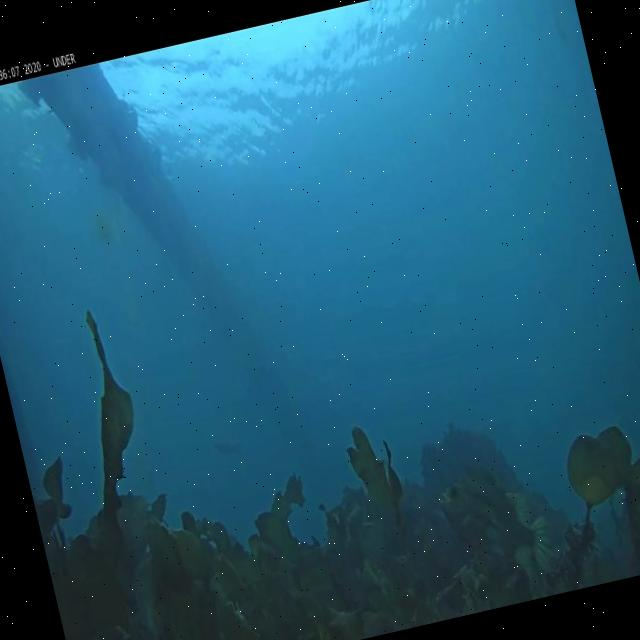fish: (210, 432, 236, 458)
